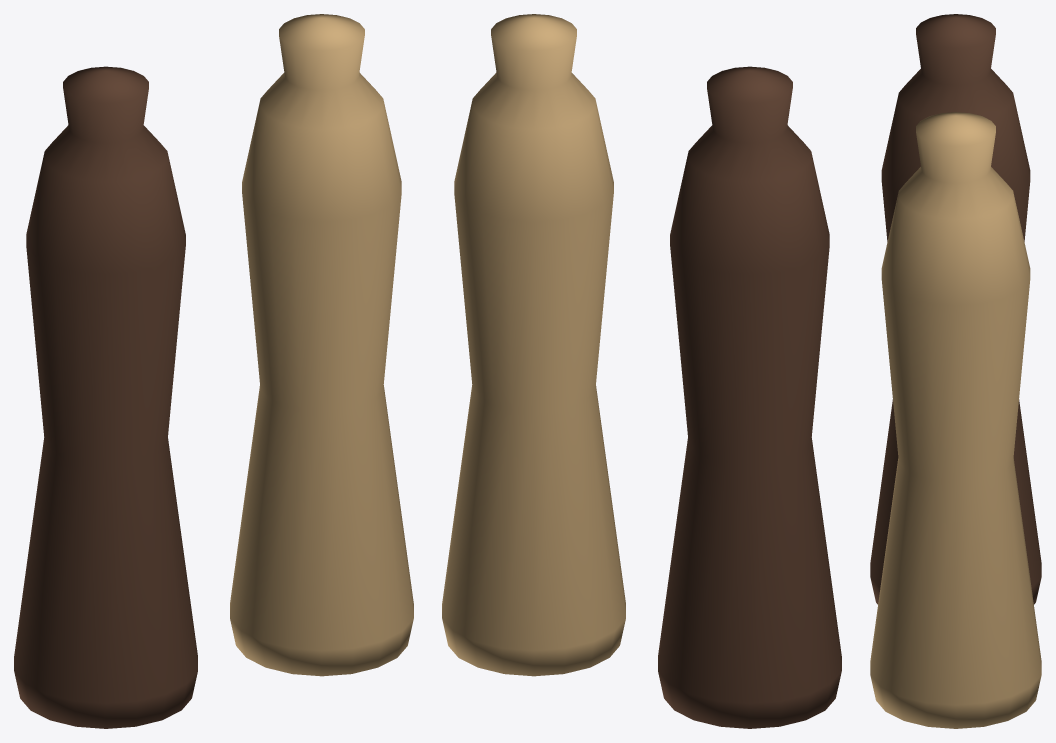
The model's file is i_kit_16.glb.
The picture shows the model from 3 angles, left to right: view 1: azimuth 30°, elevation 25°; view 2: azimuth 150°, elevation 25°; view 3: azimuth 270°, elevation 25°; orthographic projection. The views are drawn at different scales.
Parts seen in each view (by area): view 1: o, o.001; view 2: o, o.001; view 3: o.001, o.
Boxes of the visible parts, bbox=[...] form: o: bbox=[14, 66, 197, 728]; o.001: bbox=[230, 14, 413, 676]; o: bbox=[658, 66, 841, 728]; o.001: bbox=[442, 14, 625, 676]; o.001: bbox=[870, 112, 1041, 728]; o: bbox=[870, 14, 1041, 604].
Bounding box in the file's own units: 0.14 × 0.22 × 0.0591.
